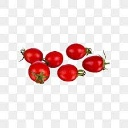tomato: (28, 61, 51, 83), (81, 55, 105, 72), (67, 44, 90, 59), (43, 51, 63, 67), (23, 48, 43, 63), (57, 66, 77, 81)
